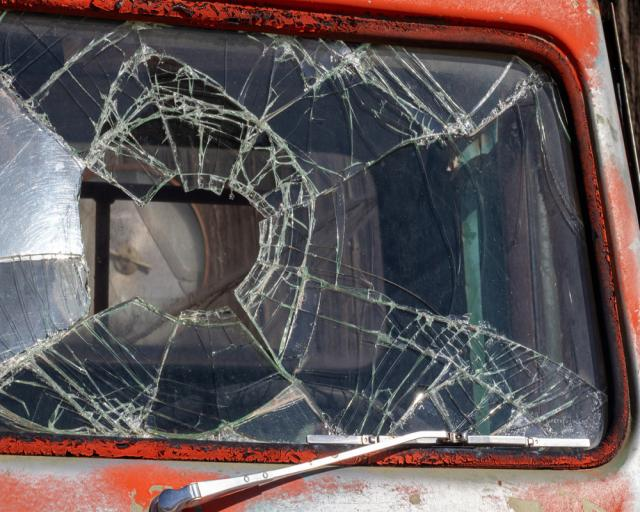glass shatter: (0, 7, 611, 451)
